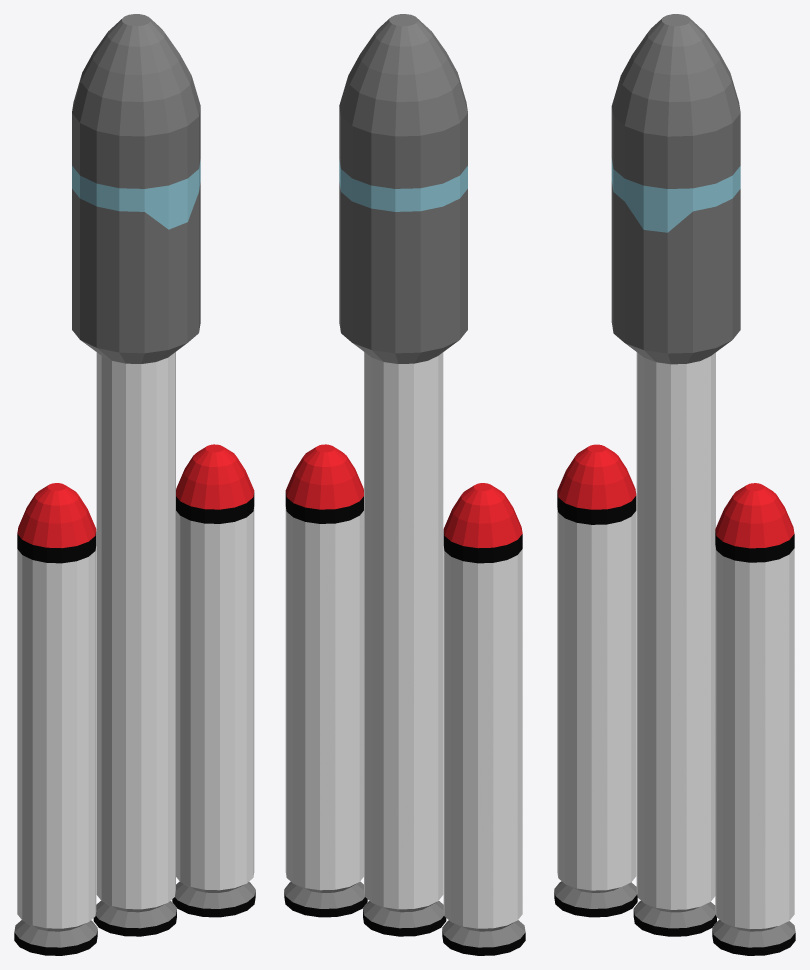
The model's file is playerShip.fbx.
The picture shows the model from 3 angles, left to right: view 1: azimuth 30°, elevation 25°; view 2: azimuth 150°, elevation 25°; view 3: azimuth 330°, elevation 25°; orthographic projection.
Parts seen in each view (by area): view 1: ship; view 2: ship; view 3: ship.
Boxes of the visible parts, <box> form: ship: <box>14,14,255,955</box>; ship: <box>284,14,525,955</box>; ship: <box>554,14,795,955</box>.
Size of the model in its own units: 334 by 1253 by 163.
